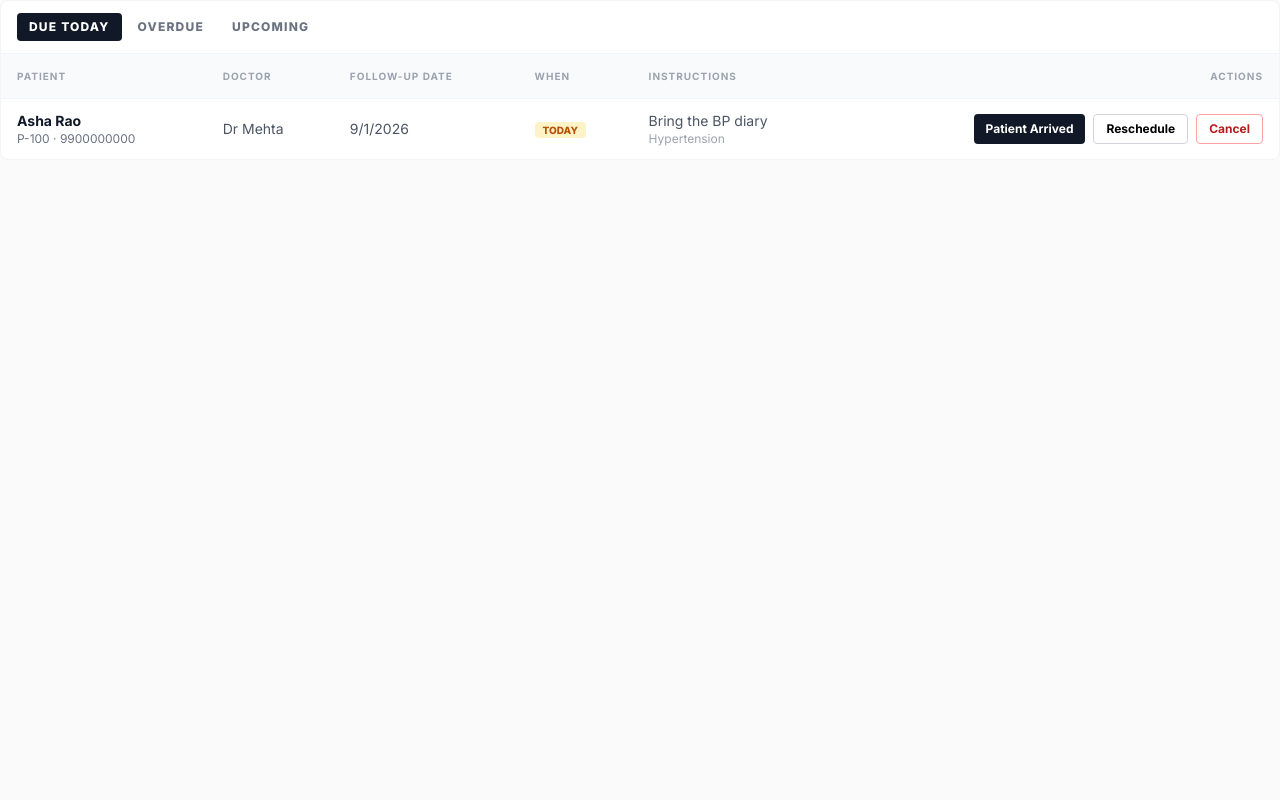
FollowUpPanel › refuses an invalid date before troubling the server
Expected: the text "Asha Rao" is shown, [17,112,81,129]
Click the button "Reschedule" at (1141, 129), box [1094,114,1188,144]
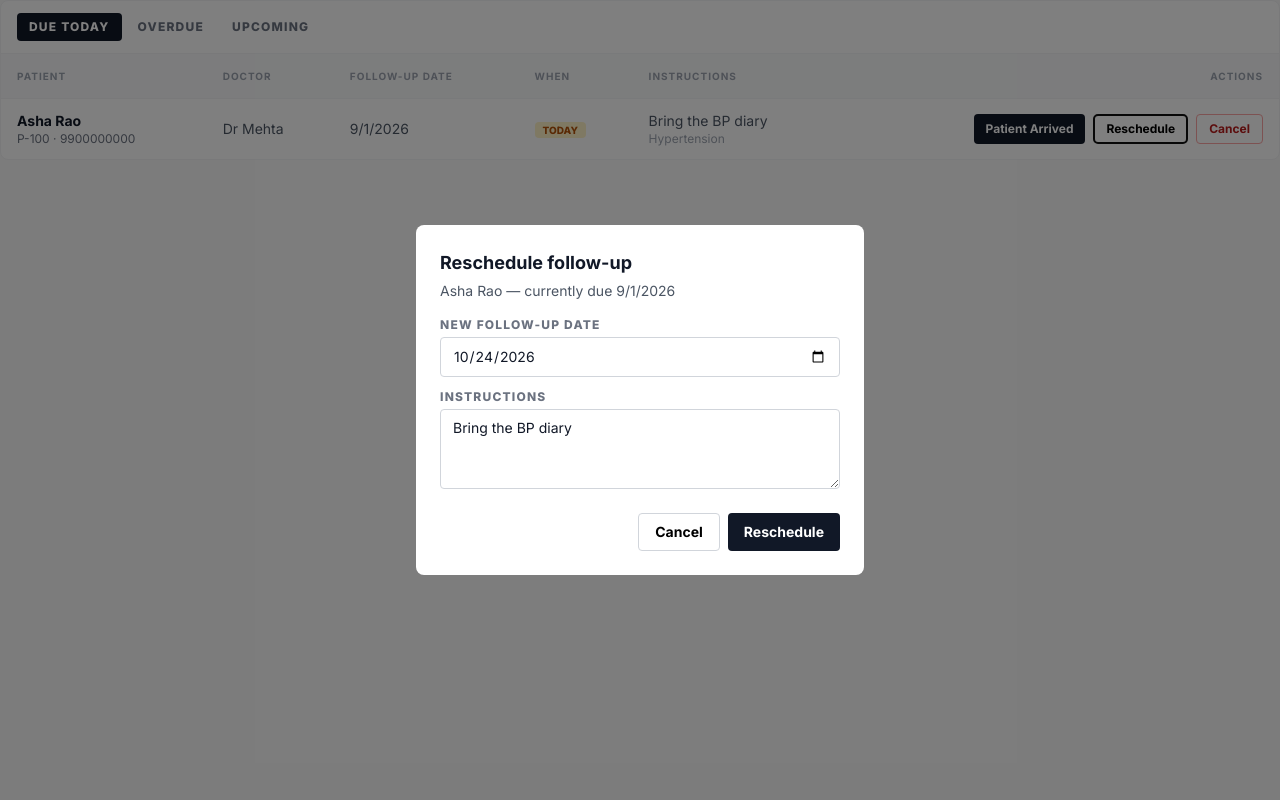
Type "2020-01-01" into the date field labelled "New follow-up date" at (640, 357), box [440,337,840,377]
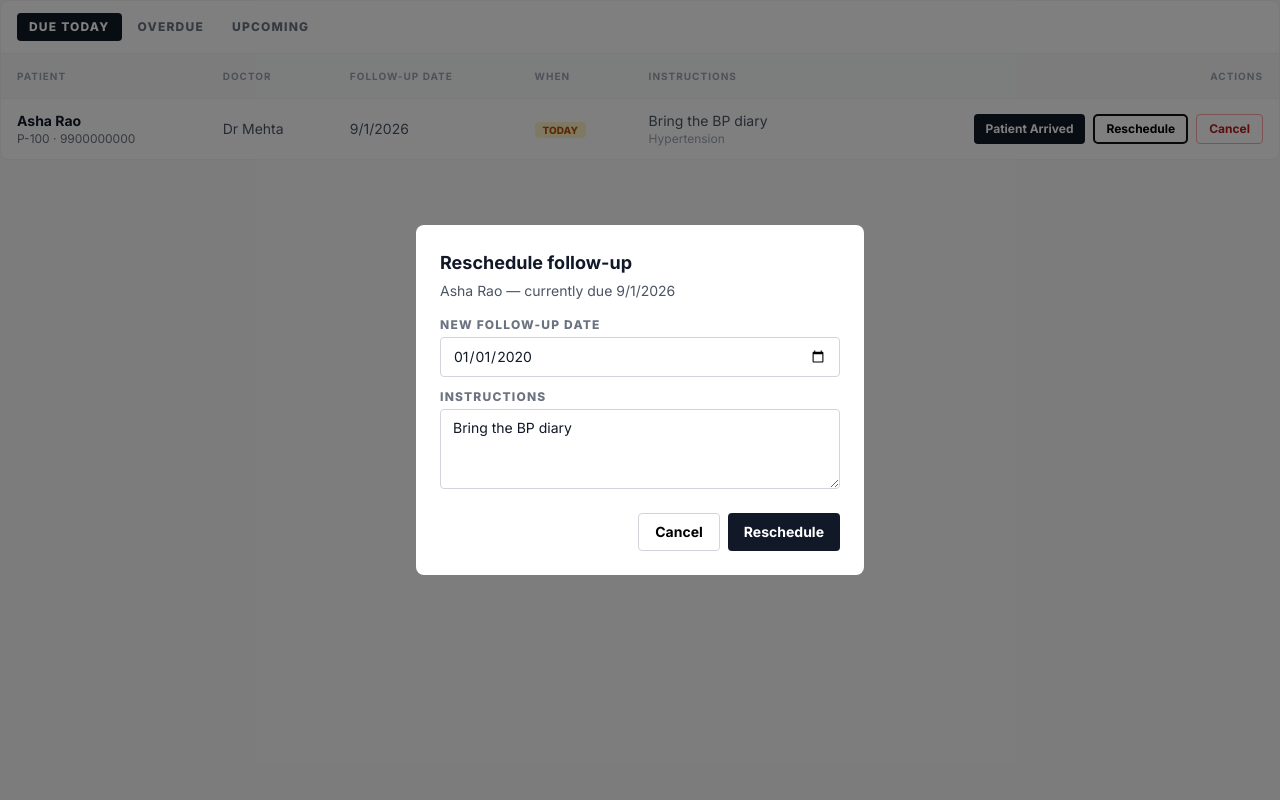
Submit the dialog "Reschedule follow-up", box [416,225,864,575]
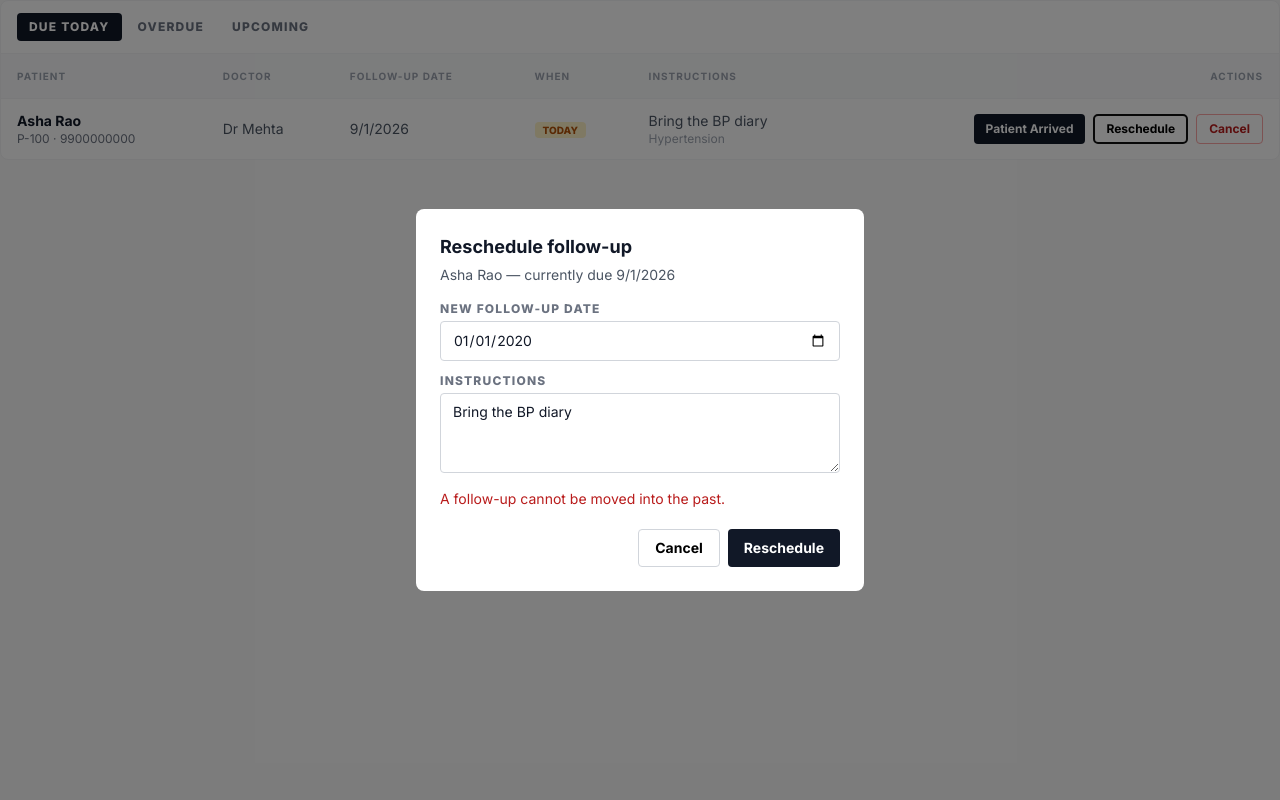
Now the message "A follow-up cannot be moved into the past." is shown, box [440,490,725,507]
